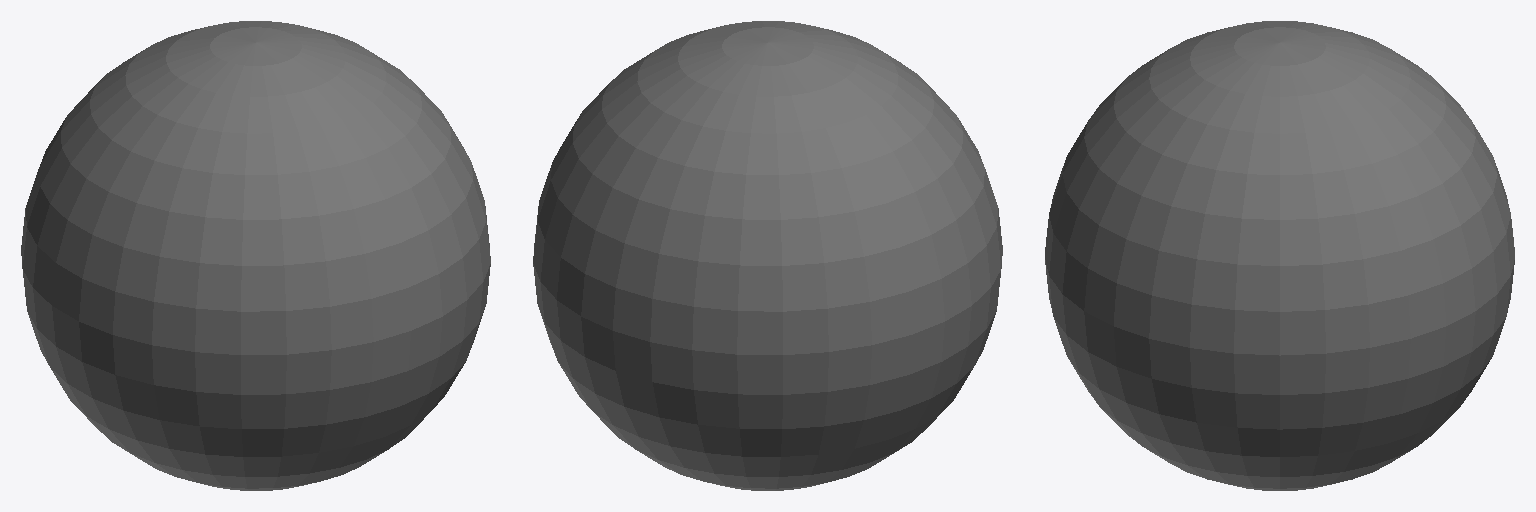
Rendered from cubo.obj.
3 renders of one model, left to right at view 1: azimuth 30°, elevation 25°; view 2: azimuth 150°, elevation 25°; view 3: azimuth 270°, elevation 25°, orthographic.
Visible parts, largest first — view 1: Sphere_Sphere.001; view 2: Sphere_Sphere.001; view 3: Sphere_Sphere.001.
Part boxes in pixels (x1,y1,x2,y2): Sphere_Sphere.001: (21, 21, 490, 490); Sphere_Sphere.001: (533, 21, 1002, 490); Sphere_Sphere.001: (1045, 21, 1514, 490).
Bounding box in the file's own units: 2 × 2 × 2.